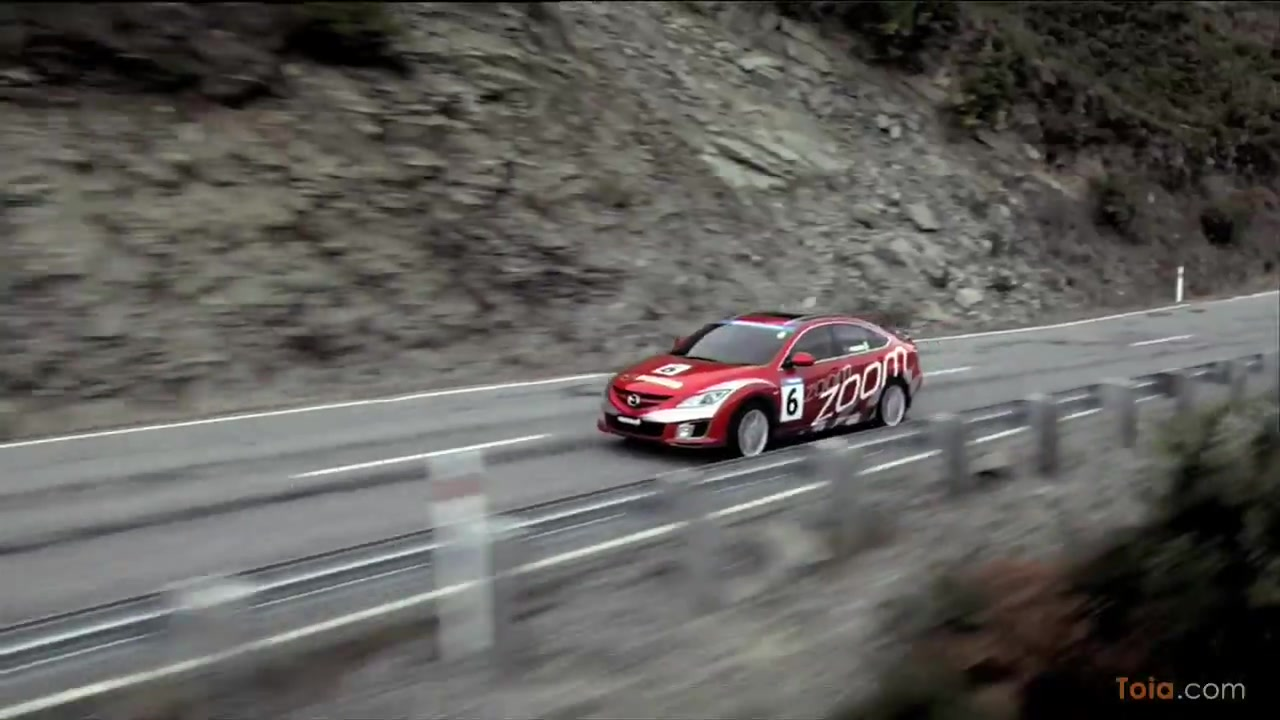car: (596, 308, 927, 466)
